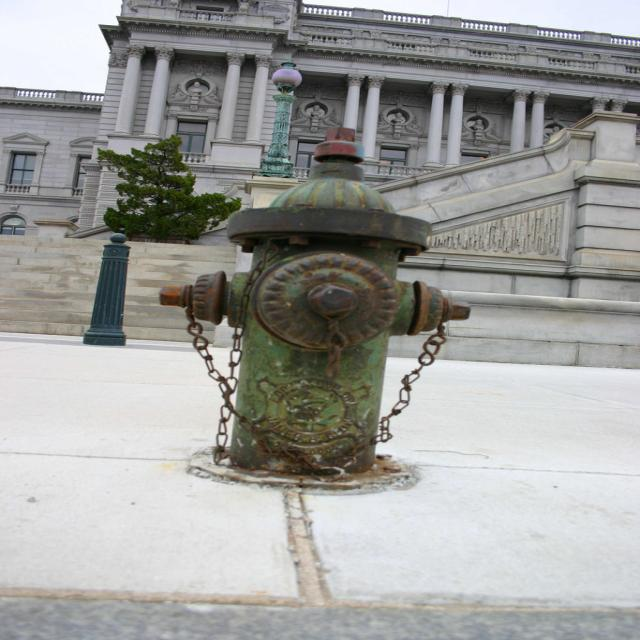fire_hydrant: (163, 124, 468, 477)
